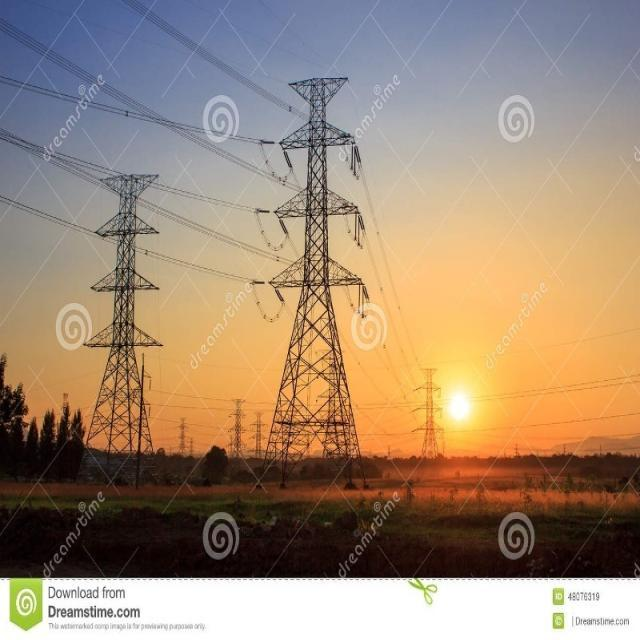non-critical vegetation: (272, 72, 360, 473), (76, 155, 178, 465)
